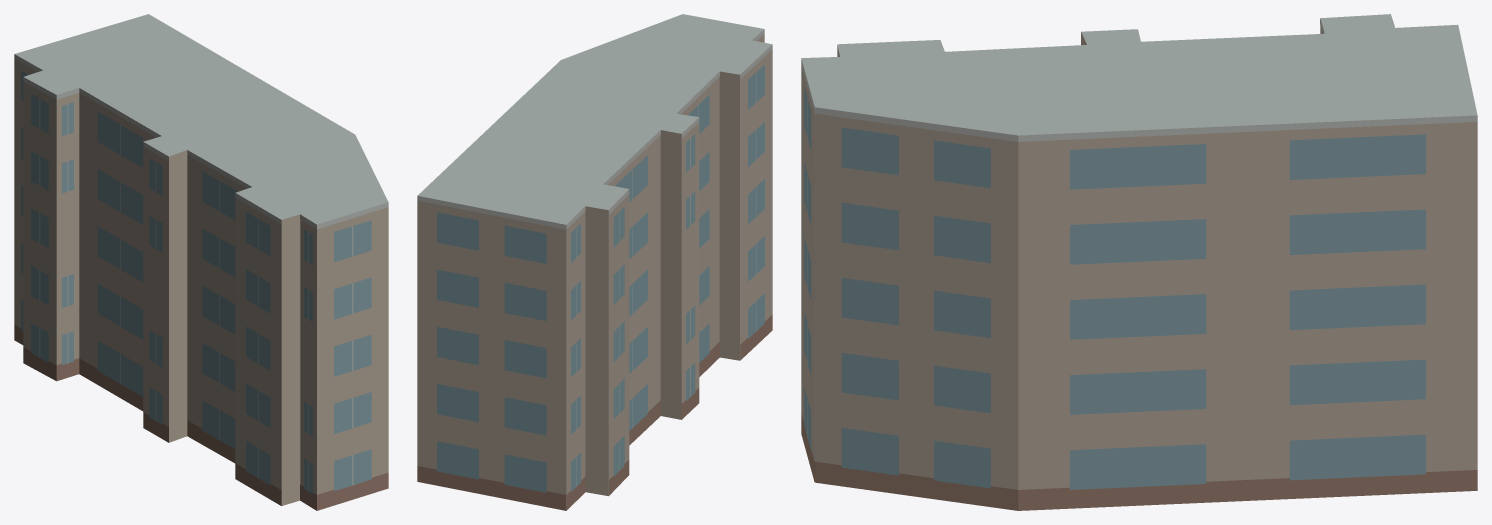
Rendered from survey-upis-32606038.glb.
The picture shows the model from 3 angles, left to right: view 1: azimuth 30°, elevation 25°; view 2: azimuth 150°, elevation 25°; view 3: azimuth 270°, elevation 25°; orthographic projection. The views are drawn at different scales.
Parts seen in each view (by area): view 1: survey-upis-32606038.tmp; view 2: survey-upis-32606038.tmp; view 3: survey-upis-32606038.tmp.
Boxes of the visible parts, x1,y1,x2,y2 form: survey-upis-32606038.tmp: [14, 14, 388, 510]; survey-upis-32606038.tmp: [417, 14, 772, 510]; survey-upis-32606038.tmp: [801, 14, 1477, 510].
Bounding box in the file's own units: 10.01 × 14.4 × 23.53.
